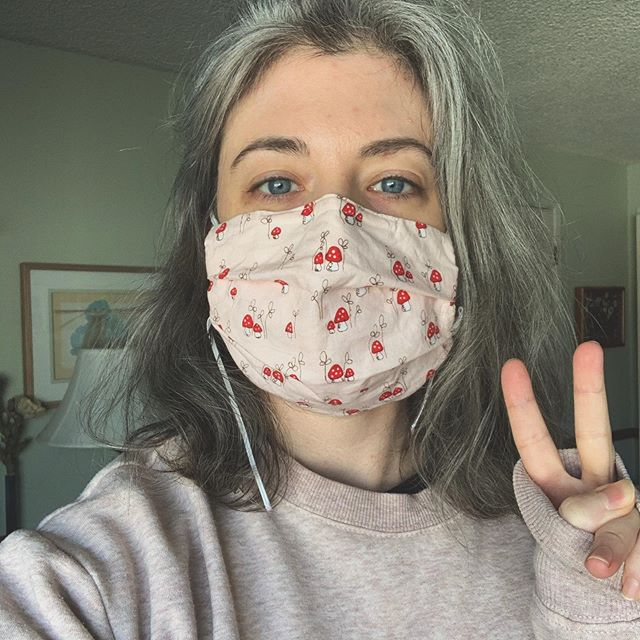homemade: (202, 202, 466, 413)
